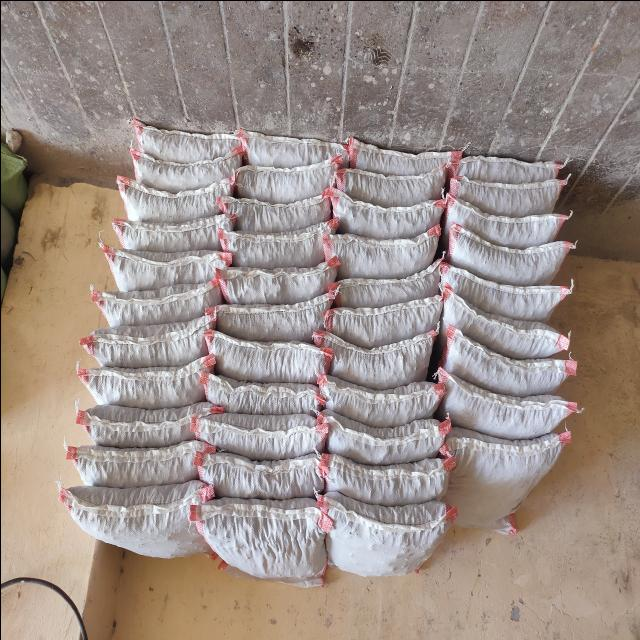Gravel: (449, 438, 559, 542), (204, 506, 325, 580), (335, 507, 444, 575), (455, 396, 564, 443), (456, 352, 565, 399), (455, 315, 564, 362), (456, 283, 565, 330), (453, 243, 562, 290), (448, 215, 557, 262), (457, 183, 566, 230), (207, 459, 323, 503), (205, 412, 321, 456), (206, 378, 322, 422), (210, 345, 326, 389), (210, 307, 326, 351), (218, 266, 334, 310), (218, 230, 334, 274), (215, 198, 331, 242), (225, 165, 341, 209), (227, 134, 343, 178), (124, 128, 240, 172), (124, 165, 240, 209), (109, 197, 225, 241), (118, 222, 234, 266), (104, 254, 220, 298), (97, 290, 213, 334), (92, 326, 208, 370), (84, 371, 200, 415), (75, 403, 191, 447), (78, 446, 194, 490), (80, 507, 196, 551), (458, 155, 567, 194), (332, 423, 439, 461), (334, 464, 441, 502), (335, 275, 433, 313), (341, 307, 439, 345), (335, 349, 433, 387), (339, 385, 437, 423), (353, 145, 451, 180), (343, 176, 441, 211), (339, 203, 437, 238), (336, 241, 434, 276)
